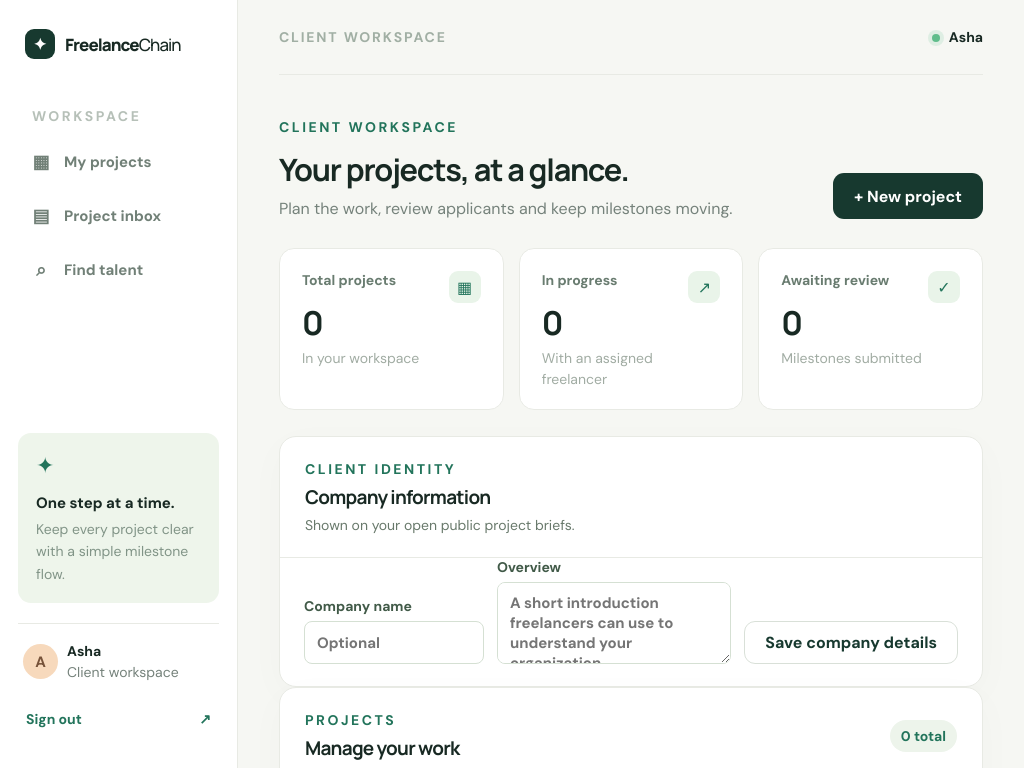
Test: client can update the public company information on open jobs
In the field labelled "Company name": (394, 642) [304, 621, 484, 664], type "Northstar Studio"
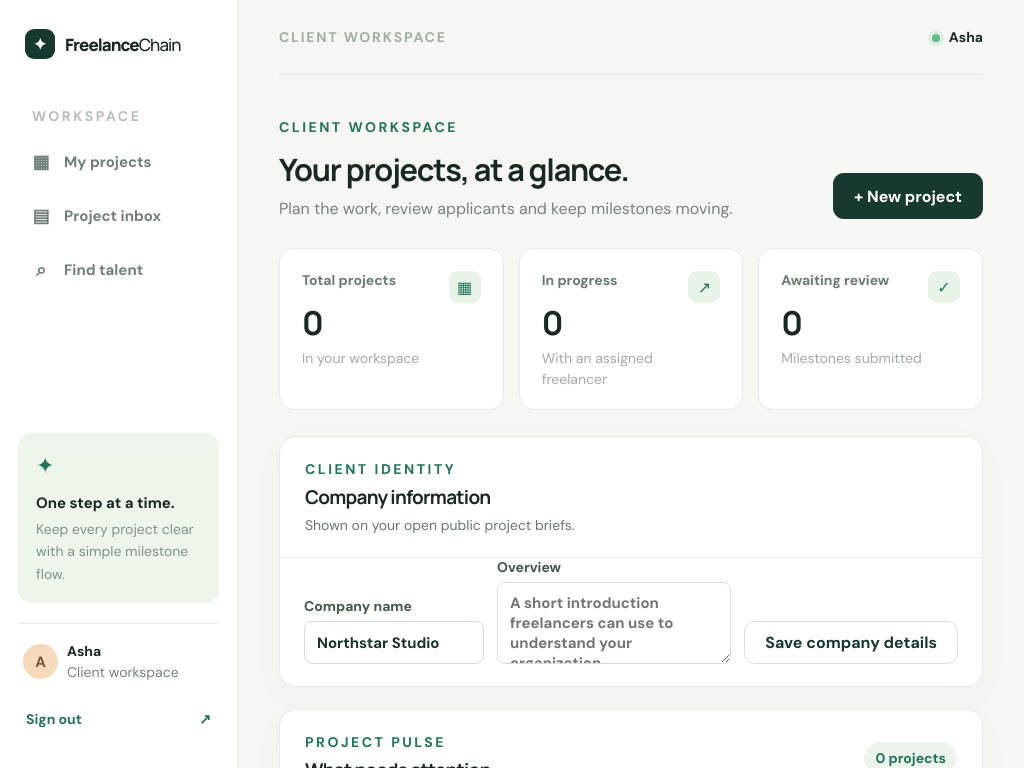
Replace the text in the text box labelled "Overview" with "A product design team.": (614, 623) [497, 582, 731, 664]
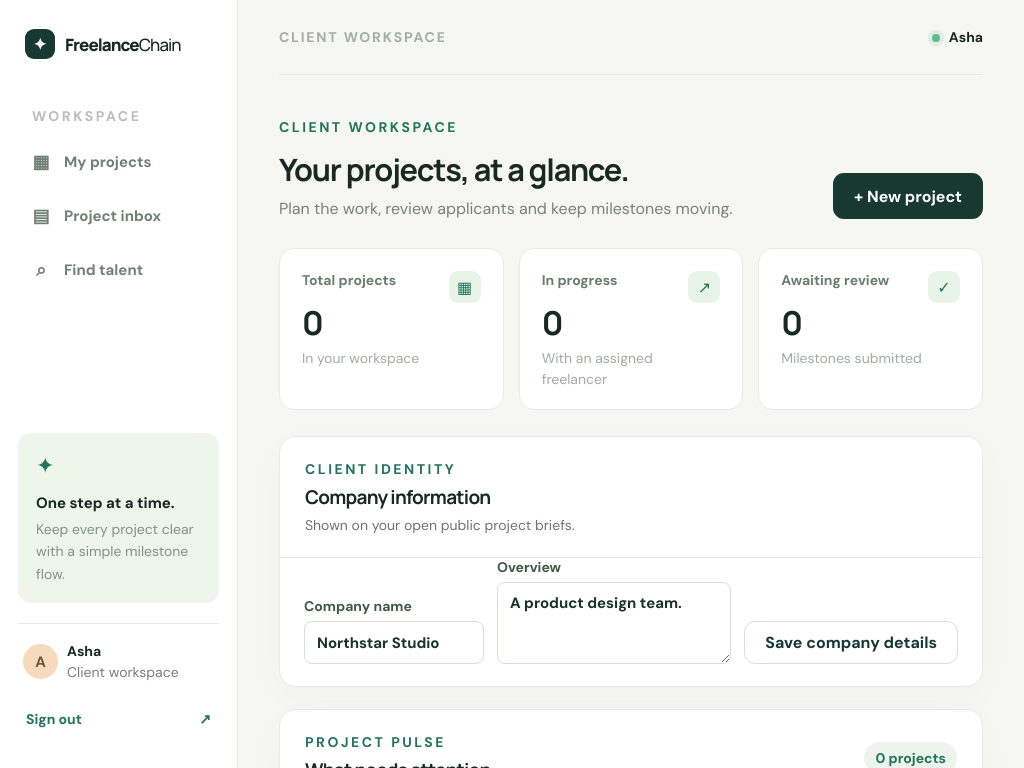
Click the button "Save company details": click(851, 642) [744, 621, 958, 664]
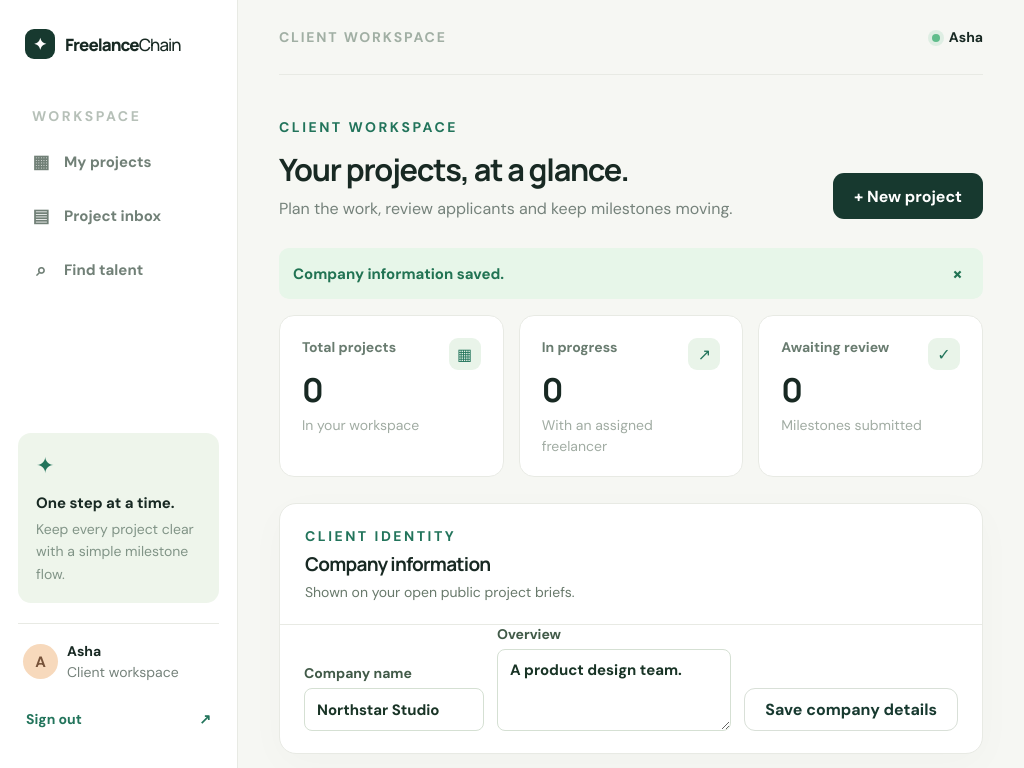
Result: the text "Company information saved." is shown at [293, 264, 504, 284]
